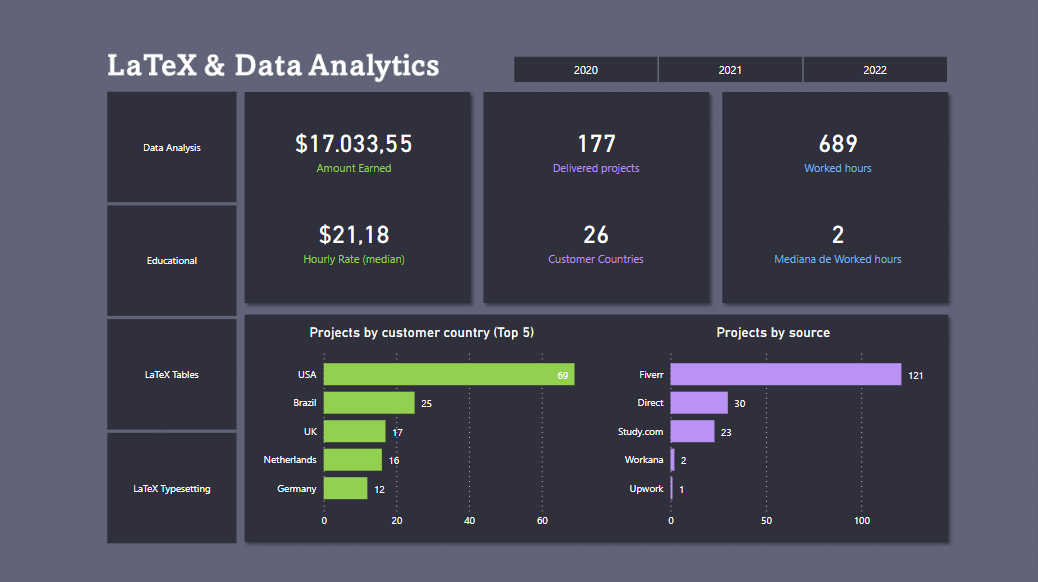

What the dashboard file says about the page in this screenshot:
{"tool":"powerbi","page":{"name":"Página 1","canvas":[1280,720],"ordinal":0},"visuals":[{"type":"barChart","title":"Projects by customer country (Top 5)","fields":{"Y":["Count(Data.Work)"],"Category":["Data.Country"]},"box":[320.3,399.7,406.9,258.3],"z":0},{"type":"card","fields":{"Values":["Median(Data.Hourly Rate)"]},"box":[320.3,255.4,242.4,80.8],"z":1000},{"type":"card","fields":{"Values":["Sum(Data.Earned (Liquid))"]},"box":[320.3,144.3,242.4,80.8],"z":2000},{"type":"card","fields":{"Values":["Count(Data.Country)"]},"box":[616.1,255.4,242.4,80.8],"z":3000},{"type":"card","fields":{"Values":["Count(Data.Work)"]},"box":[616.1,144.3,242.4,80.8],"z":4000},{"type":"card","fields":{"Values":["Sum(Data.Worked hours)"]},"box":[911.9,144.3,242.4,80.8],"z":5000},{"type":"card","fields":{"Values":["Median(Data.Worked hours)"]},"box":[911.9,255.4,242.4,80.8],"z":6000},{"type":"slicer","fields":{"Values":["Data.Year"]},"box":[611.8,66.4,578.6,44.7],"z":7000},{"type":"slicer","fields":{"Values":["Data.Subject"]},"box":[114,108.2,207.8,565.6],"z":8000},{"type":"clusteredBarChart","title":"Projects by source","fields":{"Category":["Data.Source"],"Y":["Count(Data.Work)"]},"box":[754.6,399.7,399.7,258.3],"z":9000}]}

Visuals, with their boxes in screenshot pixels (x1, y1, x2, y2), scaled from the page's 1280x720 canvas onto the 1038x582 screenshot:
"Projects by customer country (Top 5)" barChart: x1=260 y1=323 x2=590 y2=532
card - Median(Data.Hourly Rate): x1=260 y1=206 x2=456 y2=272
card - Sum(Data.Earned (Liquid)): x1=260 y1=117 x2=456 y2=182
card - Count(Data.Country): x1=500 y1=206 x2=696 y2=272
card - Count(Data.Work): x1=500 y1=117 x2=696 y2=182
card - Sum(Data.Worked hours): x1=739 y1=117 x2=936 y2=182
card - Median(Data.Worked hours): x1=739 y1=206 x2=936 y2=272
slicer - Data.Year: x1=496 y1=54 x2=965 y2=90
slicer - Data.Subject: x1=92 y1=87 x2=261 y2=545
"Projects by source" clusteredBarChart: x1=612 y1=323 x2=936 y2=532
